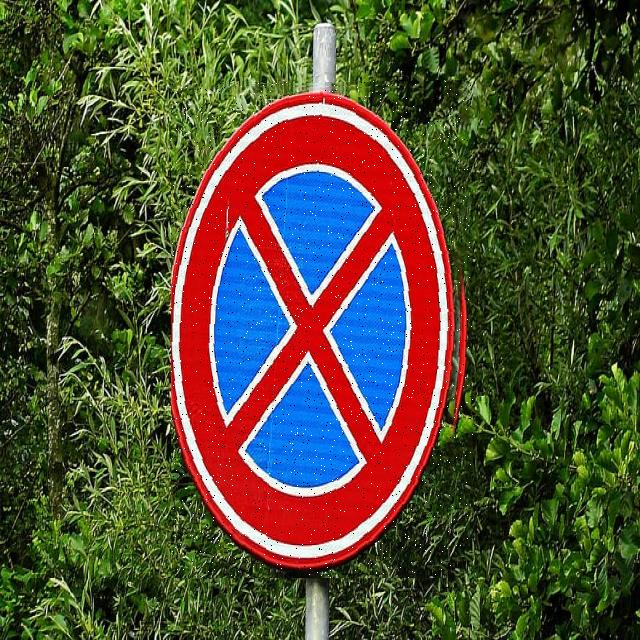no stopping: (171, 81, 473, 578)
